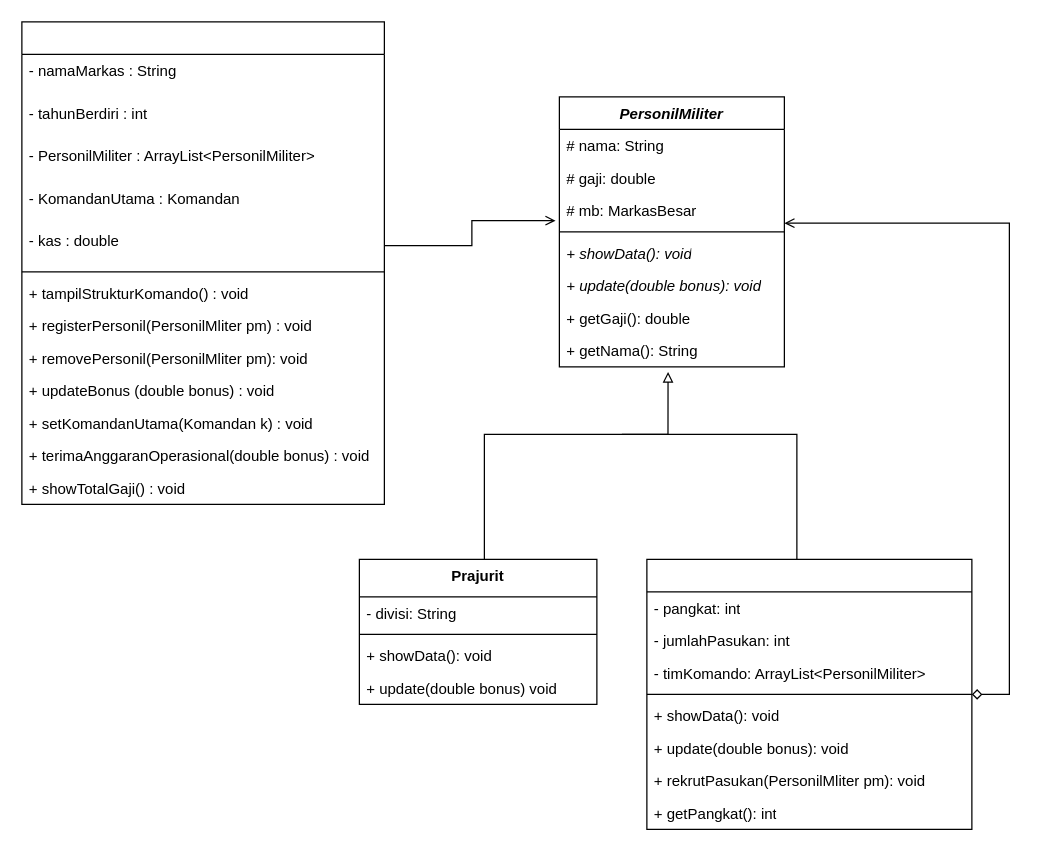
Image size: 1043x855. Some labels were removed from this diagram. The box of each missing label's shape, as (x1, y1, x2, y2) in pixels:
Komandan: (646, 558, 972, 829)
MarkasBesar: (21, 21, 384, 504)
